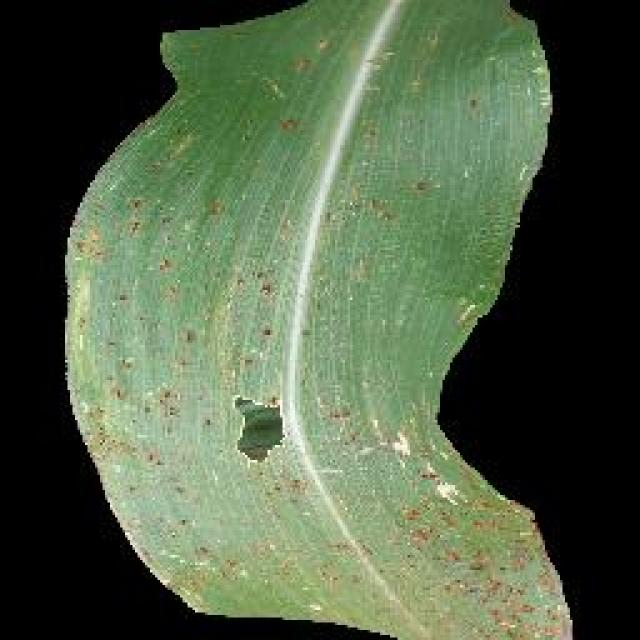Corn Common Rust: (120, 185, 528, 608)
